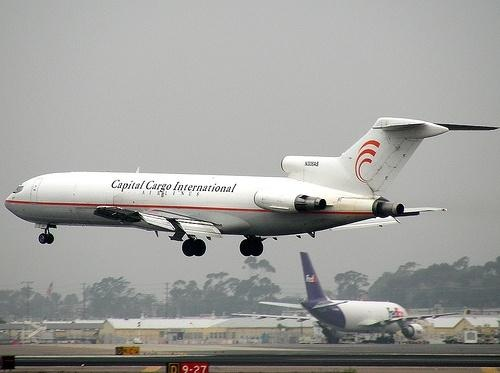aeroplane: (5, 118, 499, 258), (231, 251, 458, 346)
